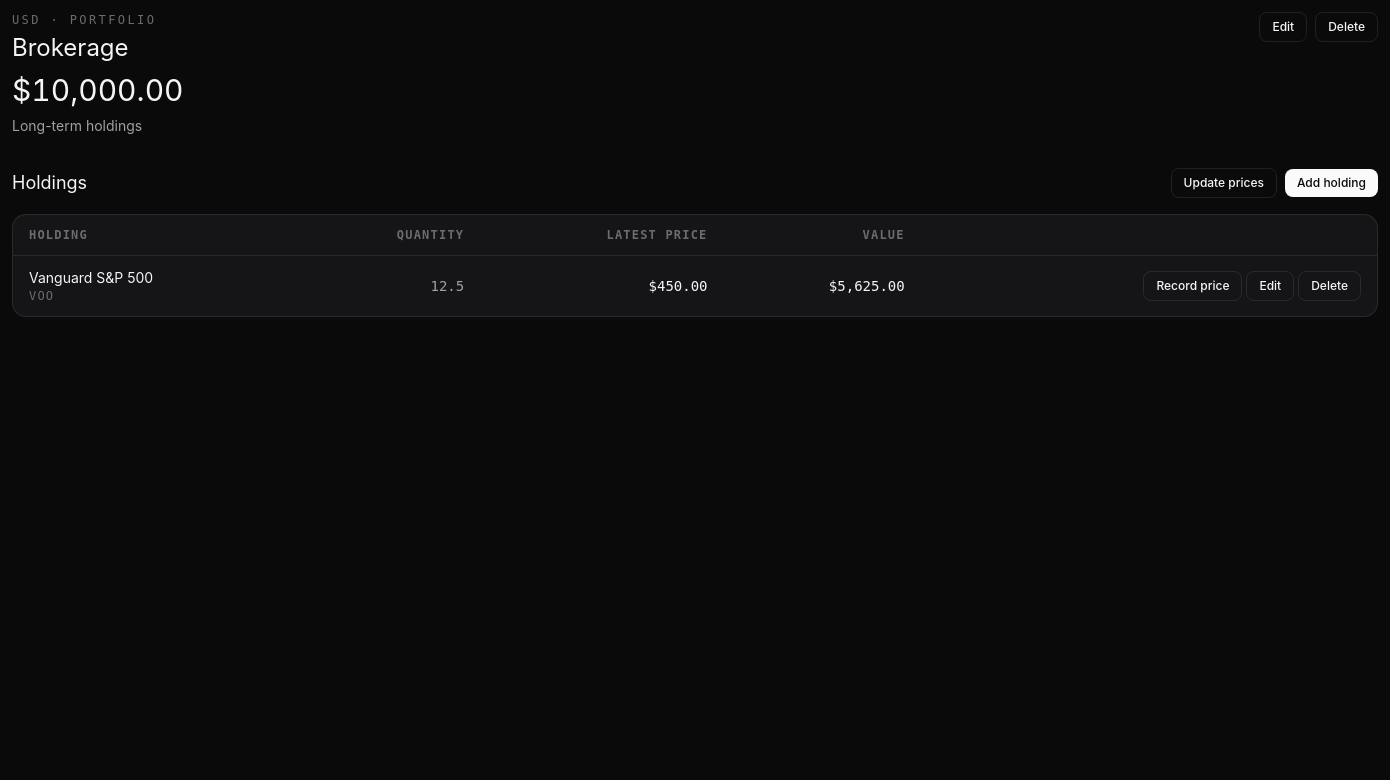
Test: PortfolioDetail › adds a holding via the Add holding panel
Expected: the text "Vanguard S&P 500" is shown, [29,269,153,286]
Click the button "Add holding" at (1332, 183), box [1285,169,1378,197]
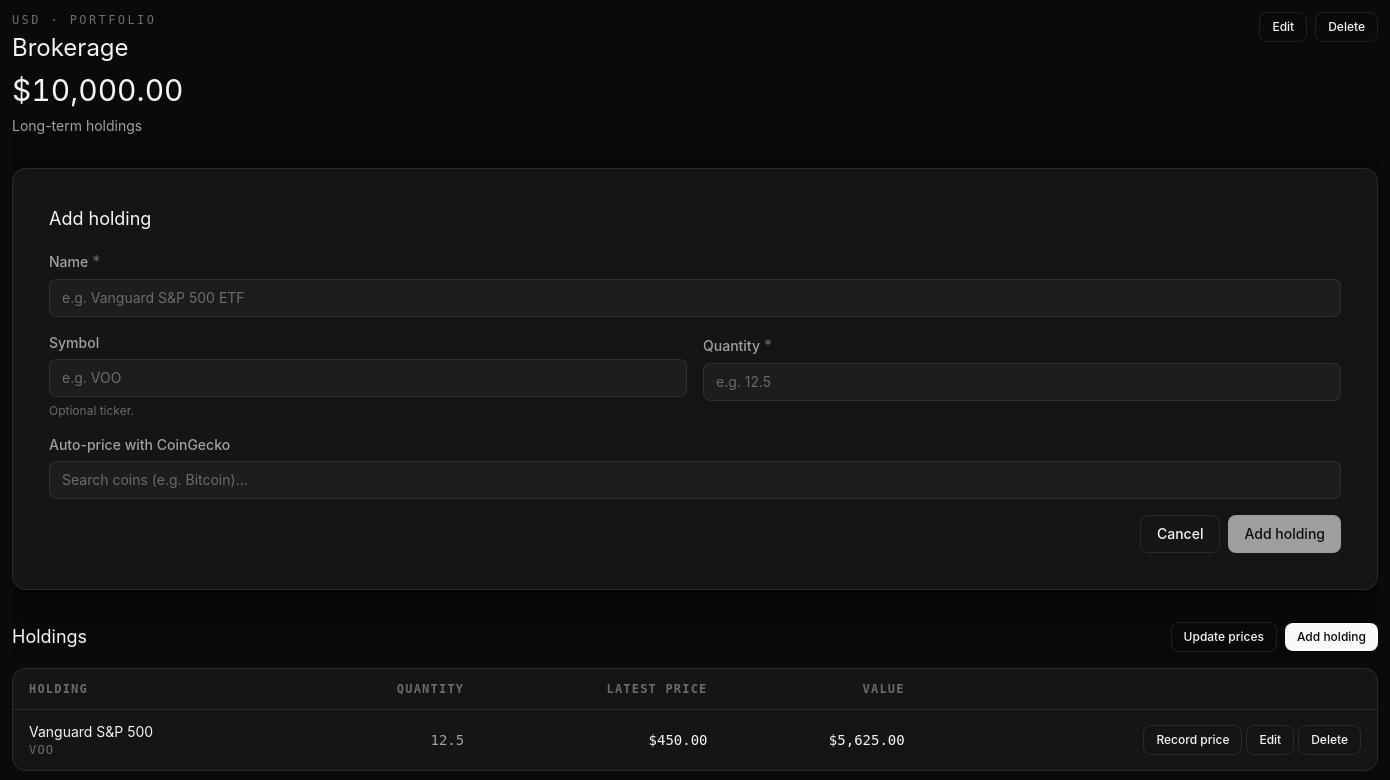
Type "Apple" into the field labelled "Name" at (695, 298), box [49,279,1341,317]
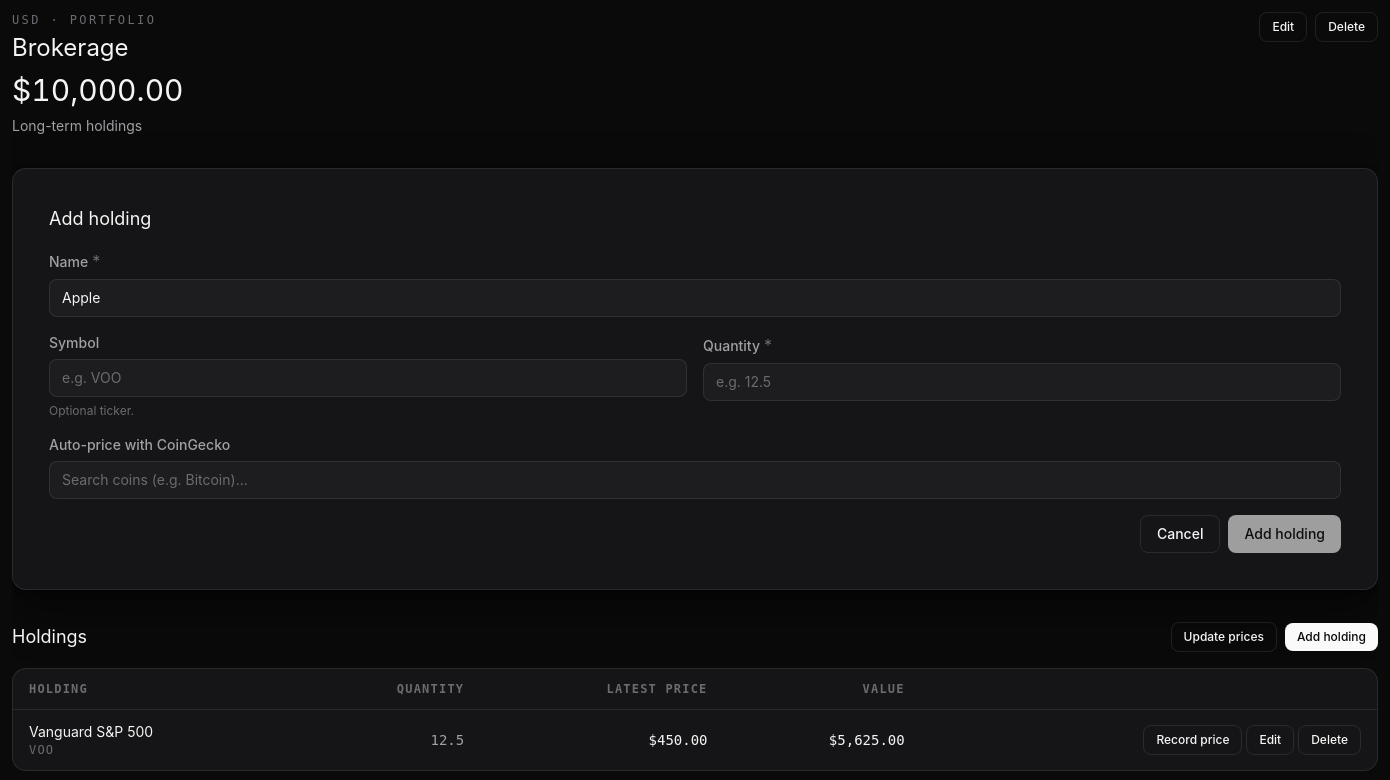
Type "3" into the field labelled "Quantity" at (1022, 382), box [703,363,1341,401]
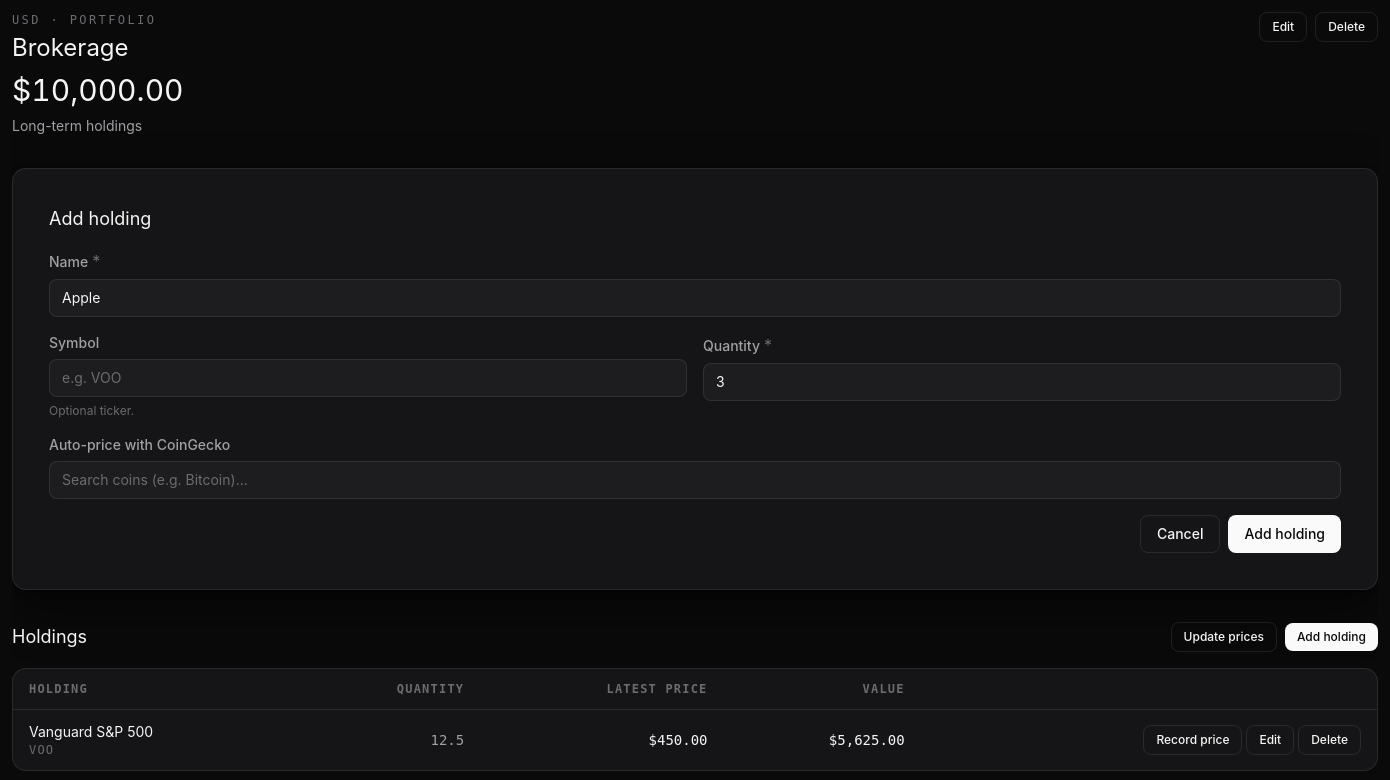
Click the 1st button "Add holding" at (1285, 534), box [1228,515,1341,553]
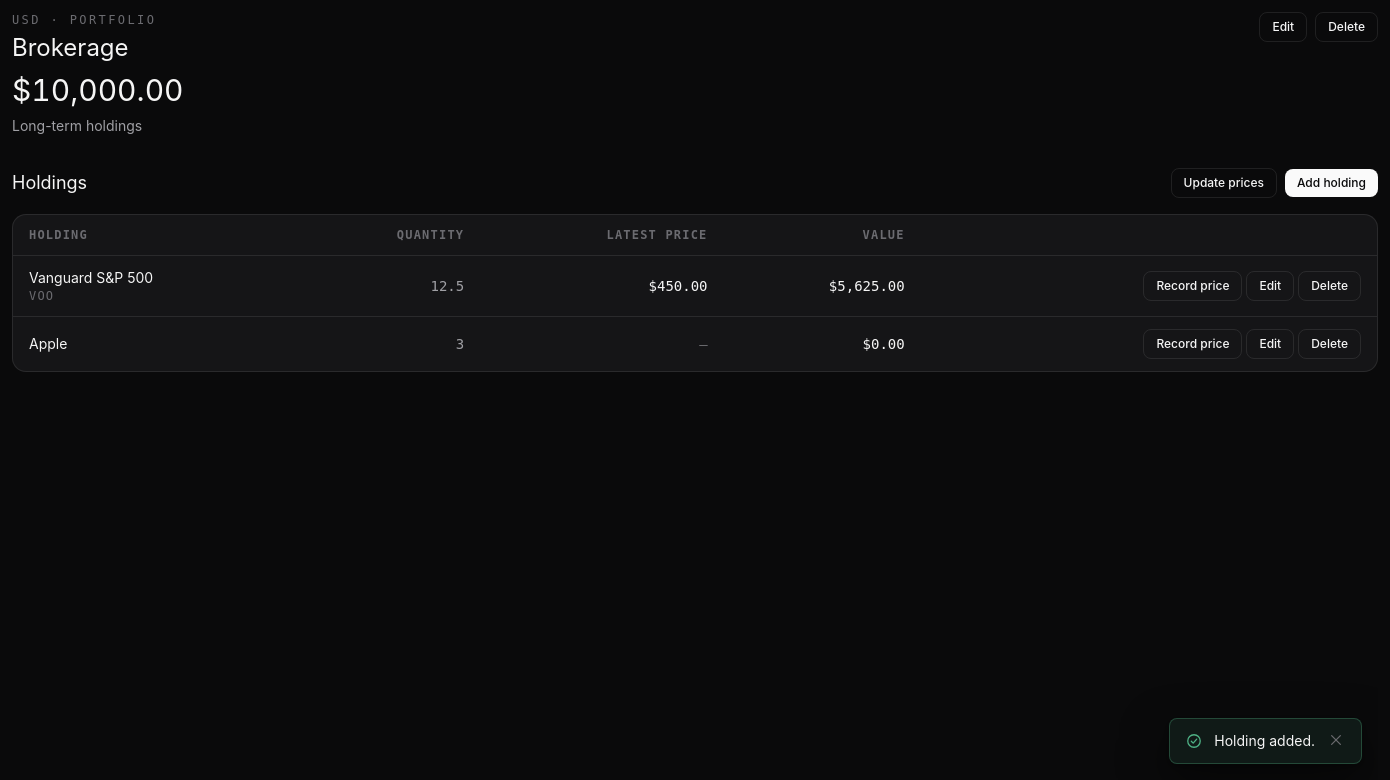
Expected: the text "Apple" is shown, [29,335,67,352]
